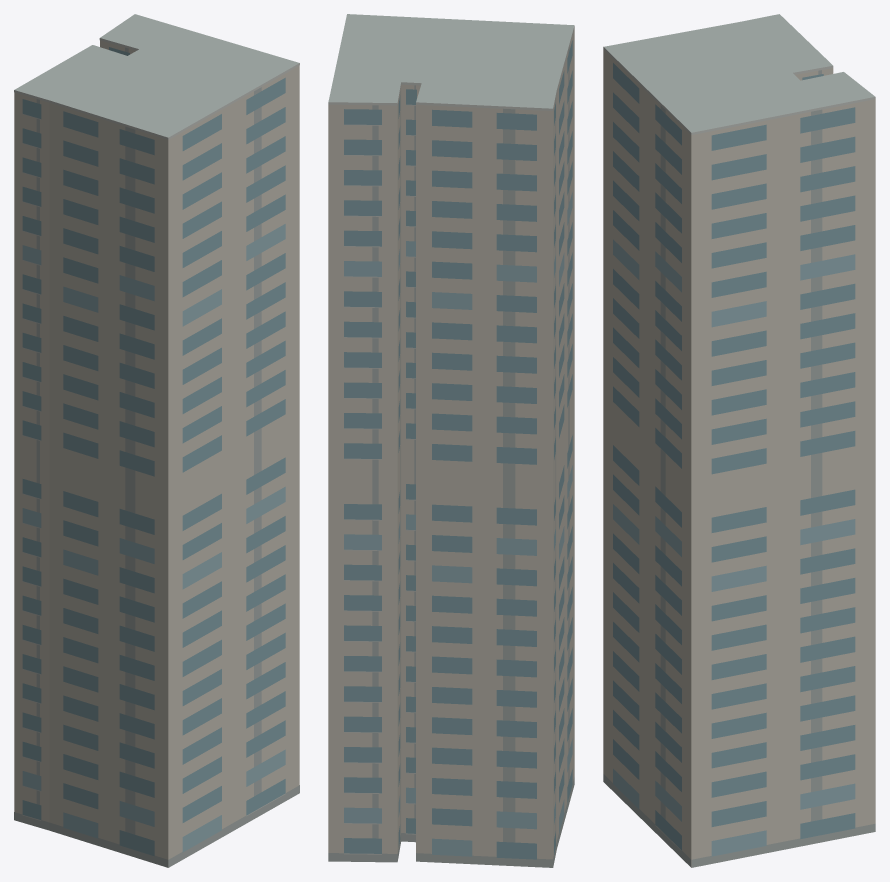
The model's file is residential-e850a777-536f-413c-943b-e856689527a7.glb.
The picture shows the model from 3 angles, left to right: view 1: azimuth 30°, elevation 25°; view 2: azimuth 150°, elevation 25°; view 3: azimuth 270°, elevation 25°; orthographic projection. The views are drawn at different scales.
Visible parts, largest first — view 1: residential-e850a777-536f-413c-943b-e856689527a7.tmp; view 2: residential-e850a777-536f-413c-943b-e856689527a7.tmp; view 3: residential-e850a777-536f-413c-943b-e856689527a7.tmp.
Part boxes in pixels (x1=…): residential-e850a777-536f-413c-943b-e856689527a7.tmp: x1=14, y1=14, x2=299, y2=867; residential-e850a777-536f-413c-943b-e856689527a7.tmp: x1=328, y1=14, x2=574, y2=867; residential-e850a777-536f-413c-943b-e856689527a7.tmp: x1=603, y1=14, x2=875, y2=867.
Size of the model in its own units: 26.44 by 76.25 by 25.58.
